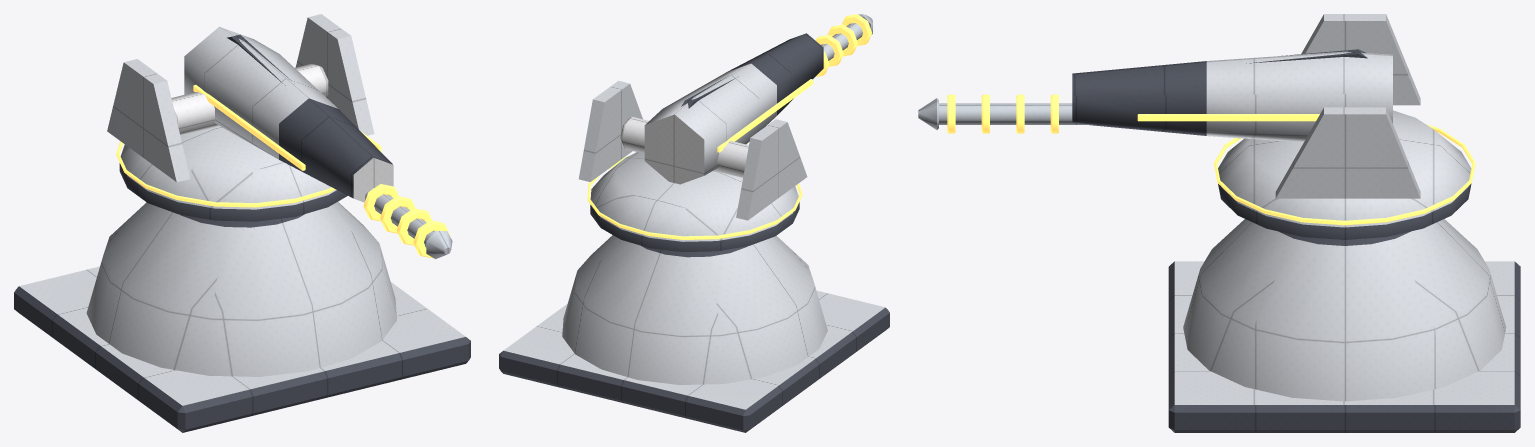
File: R4W_Basic_LOD1.glb
The picture shows the model from 3 angles, left to right: view 1: azimuth 30°, elevation 25°; view 2: azimuth 150°, elevation 25°; view 3: azimuth 270°, elevation 25°; orthographic projection. The views are drawn at different scales.
Parts seen in each view (by area): view 1: R4W_Basic_LOD1; view 2: R4W_Basic_LOD1; view 3: R4W_Basic_LOD1.
Boxes of the visible parts, x1,y1,x2,y2 form: R4W_Basic_LOD1: (14,14,470,432); R4W_Basic_LOD1: (499,14,889,432); R4W_Basic_LOD1: (918,14,1520,432).
Bounding box in the file's own units: 0.51 × 0.495 × 0.873.
5 materials, 4 textured.
